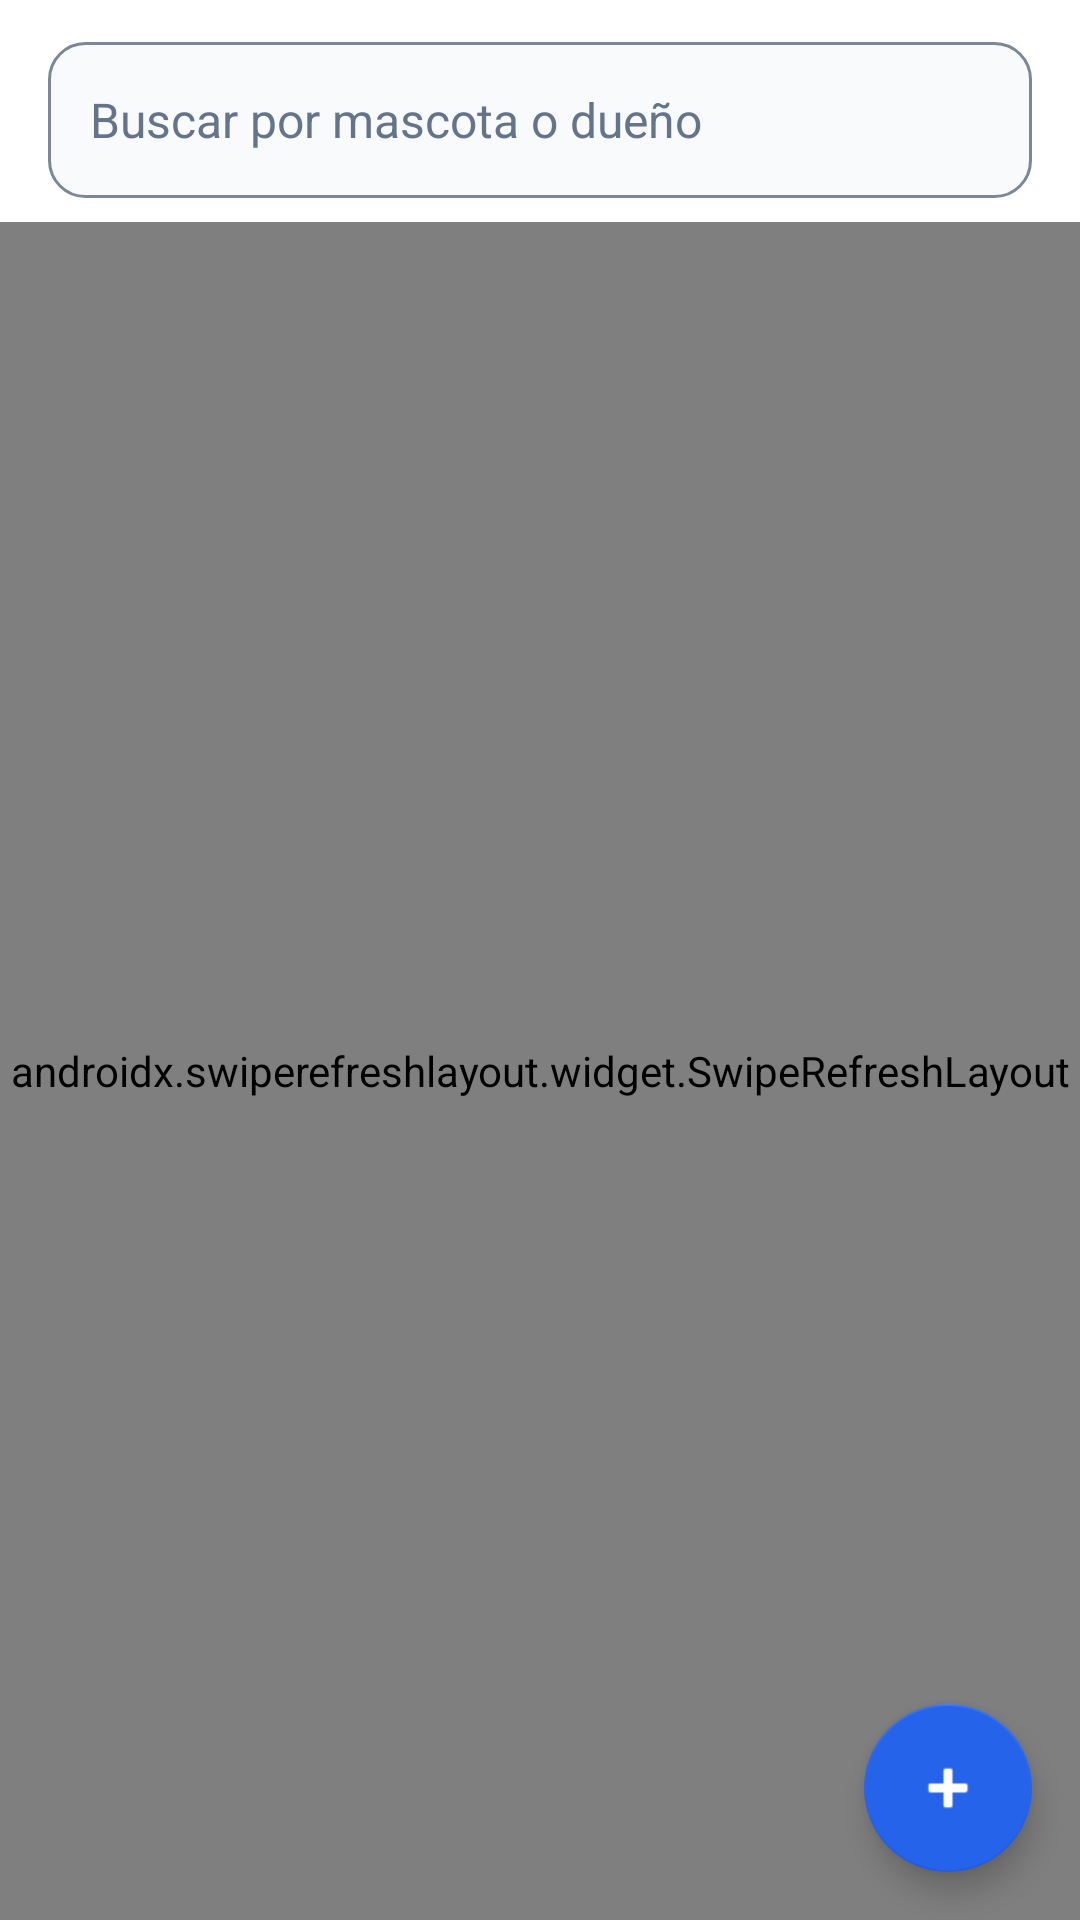

Icon bounding boxes for this 1080x1920 phone screenshot, format (x1, y1, x2, y2):
Nueva mascota: (864, 1704, 1032, 1872)
